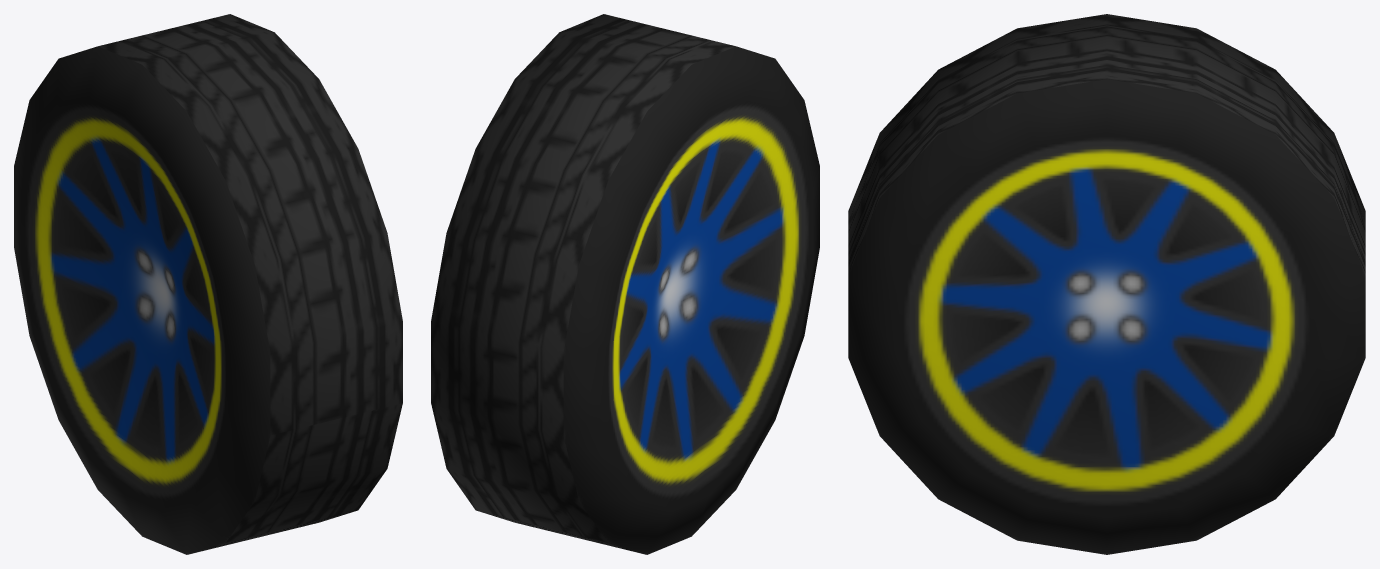
The model's file is cordo_super500_wheel.obj.
The picture shows the model from 3 angles, left to right: view 1: azimuth 30°, elevation 25°; view 2: azimuth 150°, elevation 25°; view 3: azimuth 270°, elevation 25°; orthographic projection.
Parts seen in each view (by area): view 1: wheel_Cylinder01x.006; view 2: wheel_Cylinder01x.006; view 3: wheel_Cylinder01x.006.
Boxes of the visible parts, <box> form: wheel_Cylinder01x.006: <box>14,14,402,554</box>; wheel_Cylinder01x.006: <box>431,14,819,554</box>; wheel_Cylinder01x.006: <box>848,14,1365,554</box>.
Size of the model in its own units: 0.7576 by 2.03 by 2.
Materials: 1 (1 with a texture image).
